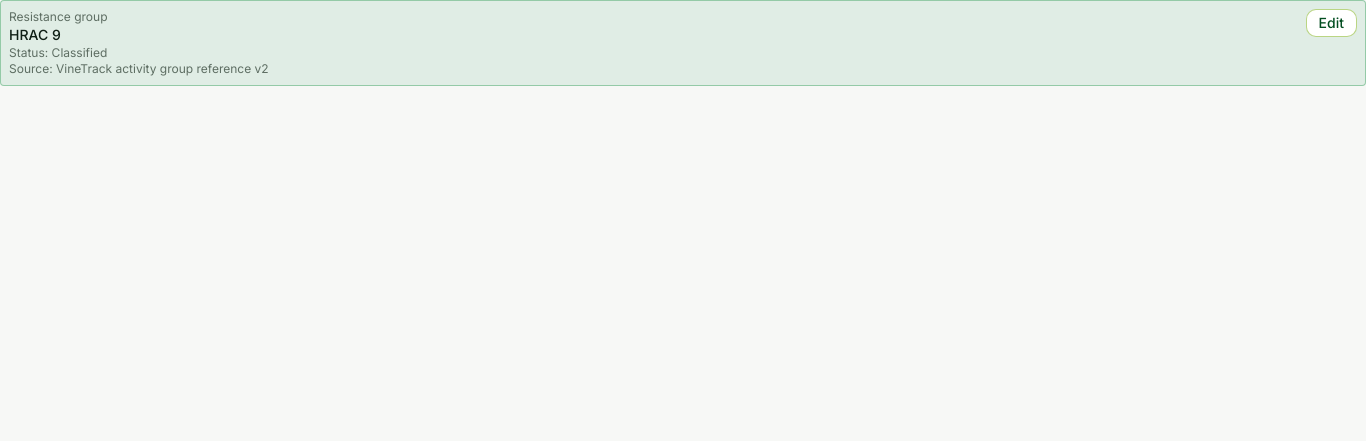
Test: V3 structured resistance › editor exposes classification, scheme and groups
Click the button "Edit" at [1331, 23], box [1306,9,1357,37]
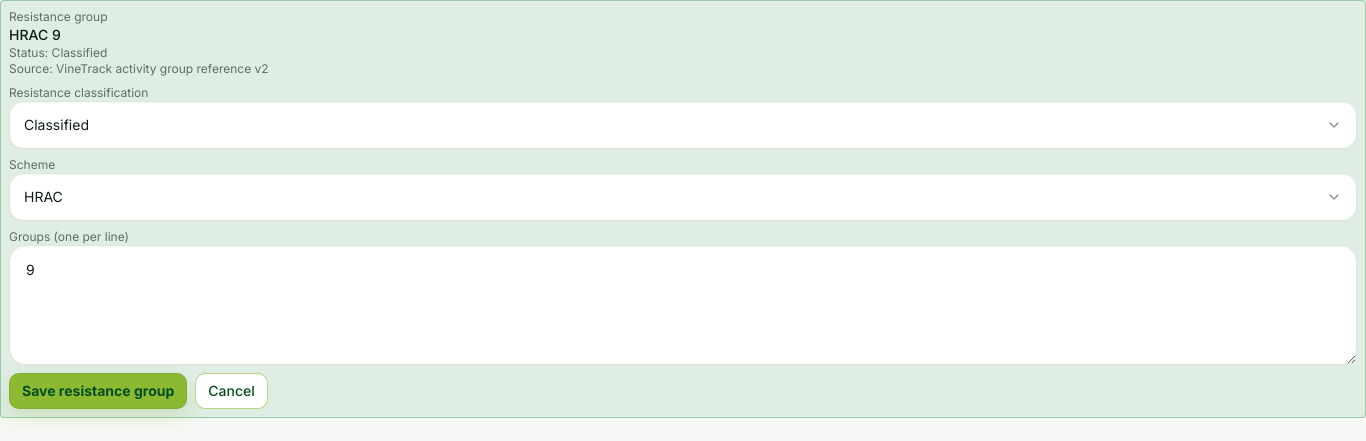
Now the dropdown named "Resistance classification" is shown, box [9,101,1357,149]
Now the dropdown named "Scheme" is shown, box [9,173,1357,221]
Now the text box labelled "Groups" holds "9", box [9,245,1357,365]
